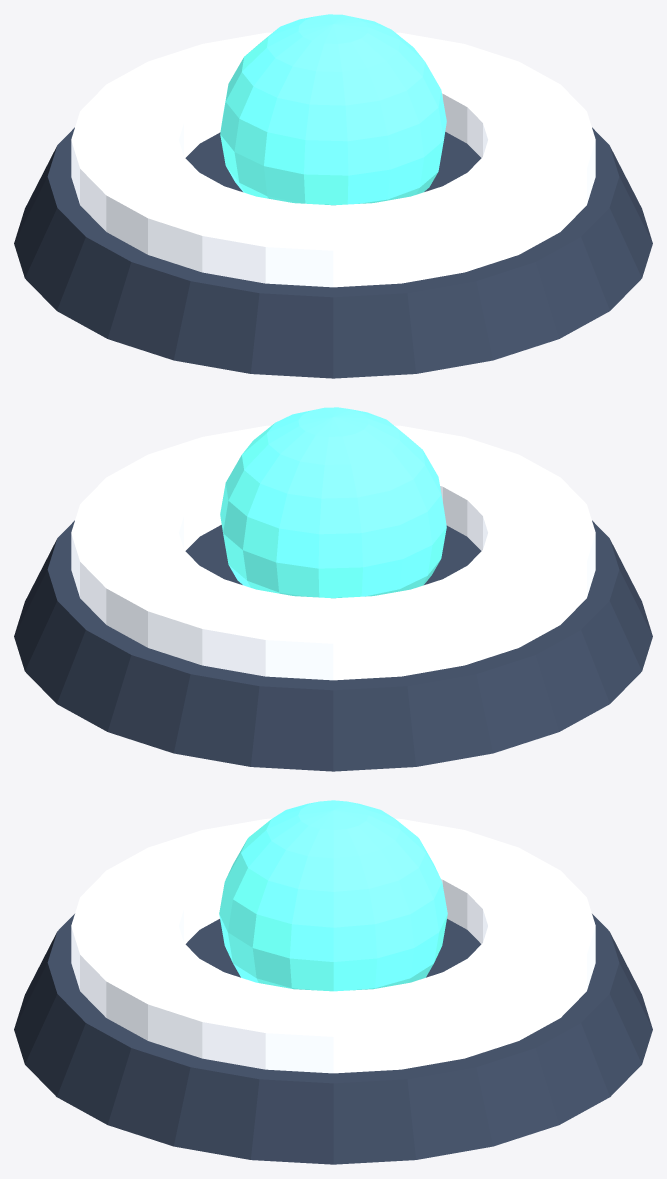
File: origin-beacon.glb
The picture shows the model from 3 angles, top to bottom: view 1: azimuth 30°, elevation 25°; view 2: azimuth 150°, elevation 25°; view 3: azimuth 270°, elevation 25°; orthographic projection.
Visible parts, largest first — view 1: MeridianBeaconRoot; view 2: MeridianBeaconRoot; view 3: MeridianBeaconRoot.
Boxes of the visible parts, x1,y1,x2,y2 form: MeridianBeaconRoot: (14, 14, 652, 378); MeridianBeaconRoot: (14, 407, 652, 771); MeridianBeaconRoot: (14, 800, 652, 1164).
Size of the model in its own units: 1.9 by 0.72 by 1.9.
